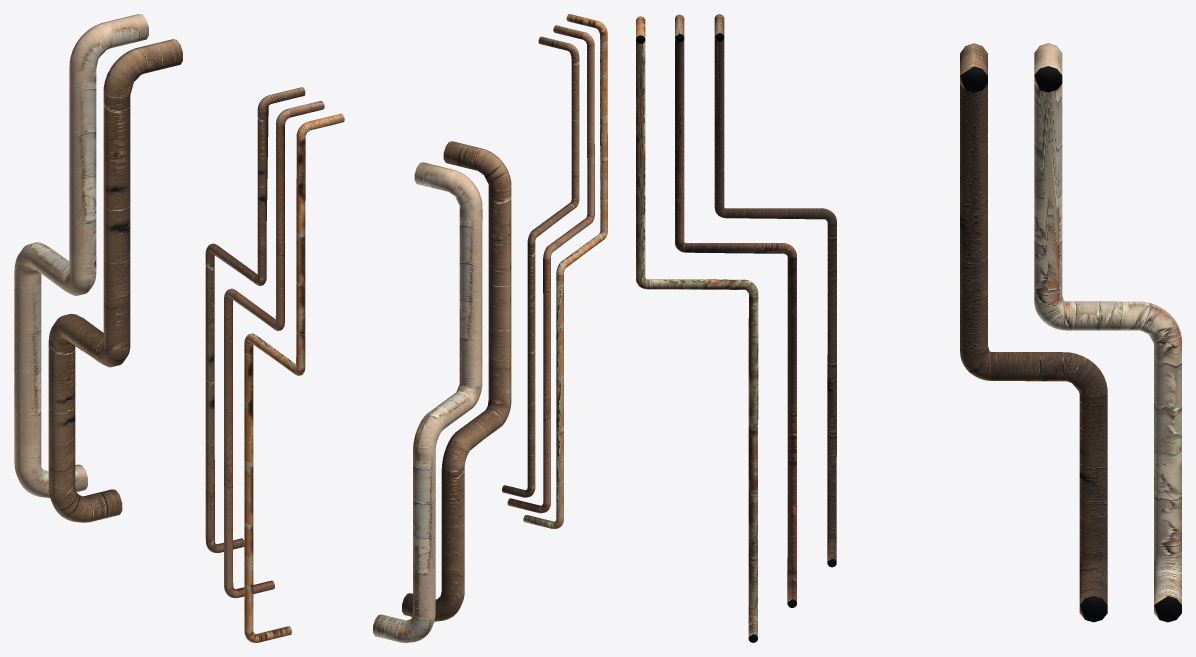
File: wallPipeCombo_500.fbx
The picture shows the model from 3 angles, left to right: view 1: azimuth 30°, elevation 25°; view 2: azimuth 150°, elevation 25°; view 3: azimuth 270°, elevation 25°; orthographic projection. The views are drawn at different scales.
Parts seen in each view (by area): view 1: pipeB200, pipeA200, pipeE200, pipeC200, pipeD200, pipeA150, pipeB150, pipeC10, pipeA10; view 2: pipeA200, pipeB200, pipeE200, pipeC200, pipeD200, pipeA150, pipeB150; view 3: pipeA200, pipeB200, pipeE200, pipeC200, pipeD200, pipeB150, pipeA10, pipeE150, pipeD150, pipeA150, pipeB10, pipeC10.
Part boxes in pixels (x1,y1,x2,y2): pipeB200: (48,39,182,522); pipeA200: (14,14,148,497); pipeE200: (244,113,344,642); pipeC200: (205,87,305,552); pipeD200: (224,101,324,598); pipeA150: (16,26,111,491); pipeB150: (51,59,145,517); pipeC10: (63,71,135,515); pipeA10: (19,44,111,490); pipeA200: (373,162,482,642); pipeB200: (402,141,511,621); pipeE200: (523,14,607,528); pipeC200: (502,36,579,497); pipeD200: (507,25,594,513); pipeA150: (399,172,481,636); pipeB150: (435,157,510,607); pipeA200: (1034,43,1181,622); pipeB200: (960,43,1107,622); pipeE200: (636,16,758,642); pipeC200: (714,14,836,567); pipeD200: (675,14,796,607); pipeB150: (965,90,1107,588); pipeA10: (1040,90,1181,588); pipeE150: (638,43,757,618); pipeD150: (677,42,796,582); pipeA150: (1035,43,1181,588); pipeB10: (716,41,836,546); pipeC10: (974,47,1107,588).
Size of the model in its own units: 0.9833 by 6.24 by 5.07.
